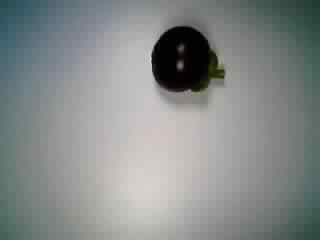mangosteen: (147, 22, 227, 100)
